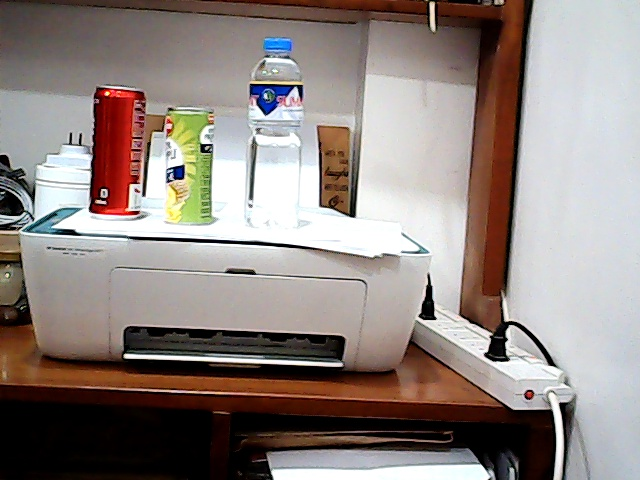Cola: (80, 78, 148, 223)
Pine Juice: (161, 100, 218, 231)
Summit Water: (234, 32, 311, 228)
